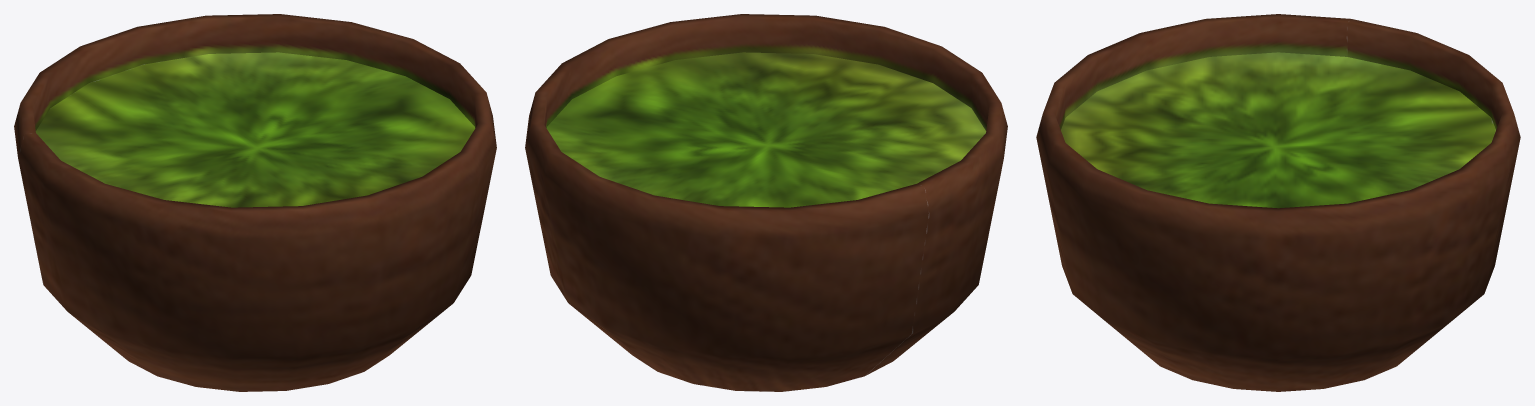
The model's file is Salad.fbx.
The picture shows the model from 3 angles, left to right: view 1: azimuth 30°, elevation 25°; view 2: azimuth 150°, elevation 25°; view 3: azimuth 270°, elevation 25°; orthographic projection.
Visible parts, largest first — view 1: salad; view 2: salad; view 3: salad.
Boxes of the visible parts, x1,y1,x2,y2 form: salad: [14, 14, 496, 391]; salad: [525, 14, 1007, 391]; salad: [1036, 14, 1520, 391].
Bounding box in the file's own units: 0.2945 × 0.1453 × 0.2945.
